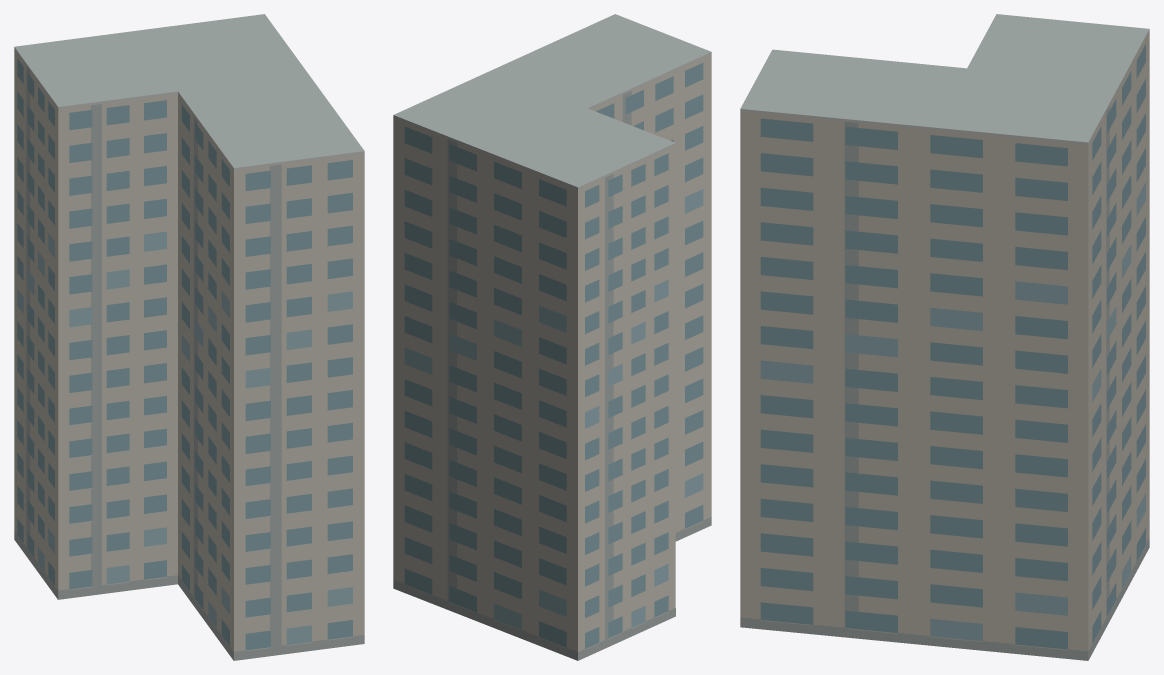
Rendered from residential-69ae7132-49c3-4b7e-8d09-1f428ce0639b.glb.
The picture shows the model from 3 angles, left to right: view 1: azimuth 30°, elevation 25°; view 2: azimuth 150°, elevation 25°; view 3: azimuth 270°, elevation 25°; orthographic projection. The views are drawn at different scales.
Visible parts, largest first — view 1: residential-69ae7132-49c3-4b7e-8d09-1f428ce0639b.tmp; view 2: residential-69ae7132-49c3-4b7e-8d09-1f428ce0639b.tmp; view 3: residential-69ae7132-49c3-4b7e-8d09-1f428ce0639b.tmp.
Boxes of the visible parts, x1,y1,x2,y2 form: residential-69ae7132-49c3-4b7e-8d09-1f428ce0639b.tmp: (14,14,364,660); residential-69ae7132-49c3-4b7e-8d09-1f428ce0639b.tmp: (393,14,711,660); residential-69ae7132-49c3-4b7e-8d09-1f428ce0639b.tmp: (740,14,1149,660).
Bounding box in the file's own units: 24.99 × 47 × 33.65.
